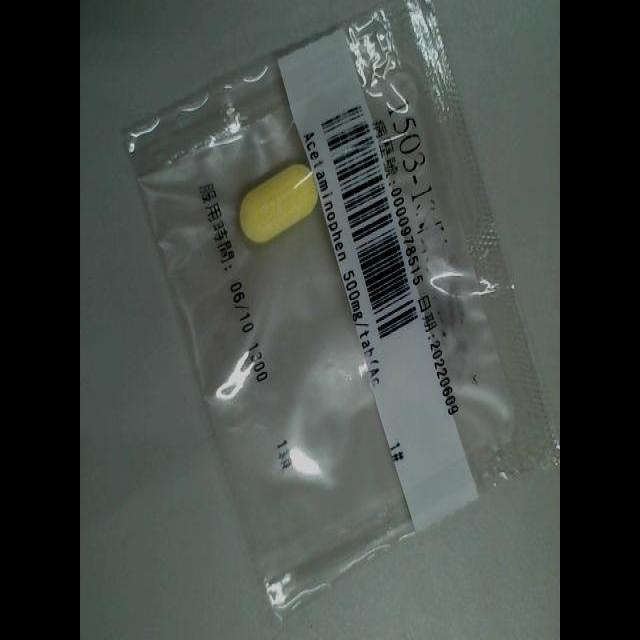pill: (238, 160, 322, 246)
